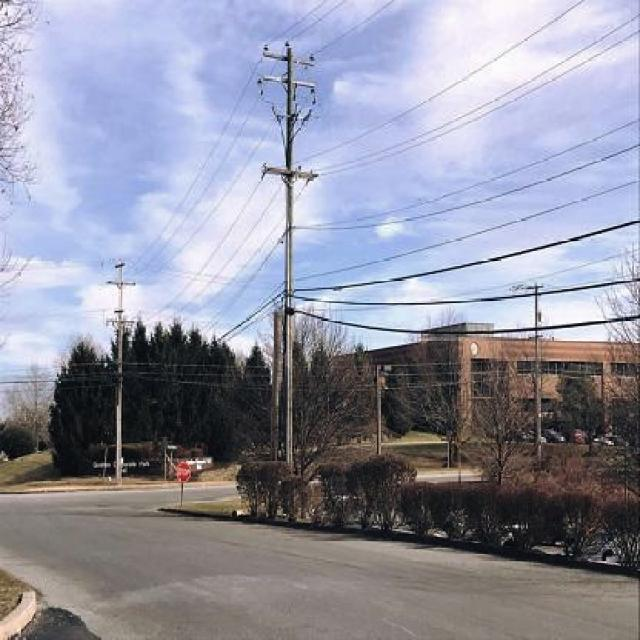crossarm: (264, 50, 317, 67), (265, 72, 317, 89), (262, 165, 318, 178)
pole: (287, 48, 295, 473), (113, 259, 123, 484)
wire: (186, 217, 640, 358), (312, 13, 639, 173), (295, 0, 585, 166), (317, 30, 638, 175), (292, 118, 639, 228), (292, 179, 639, 283), (292, 144, 640, 230), (141, 178, 265, 326), (159, 180, 284, 324), (286, 277, 640, 306), (288, 308, 640, 335), (309, 1, 395, 59), (288, 1, 347, 43)
